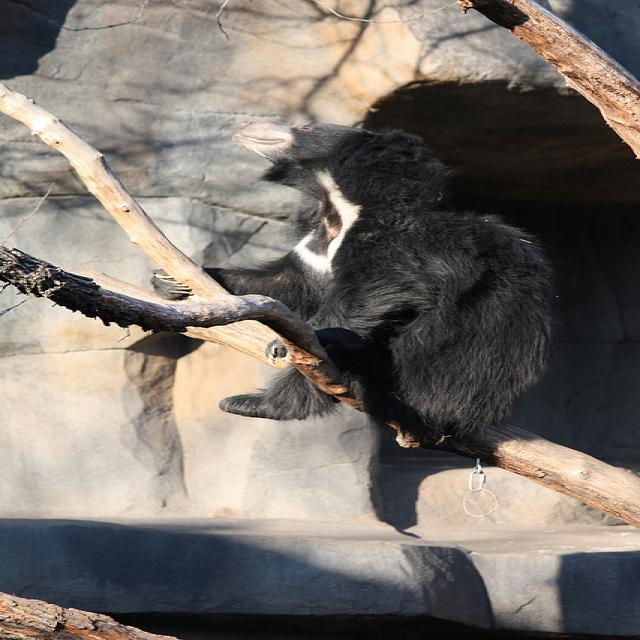Bear: (201, 107, 567, 473)
